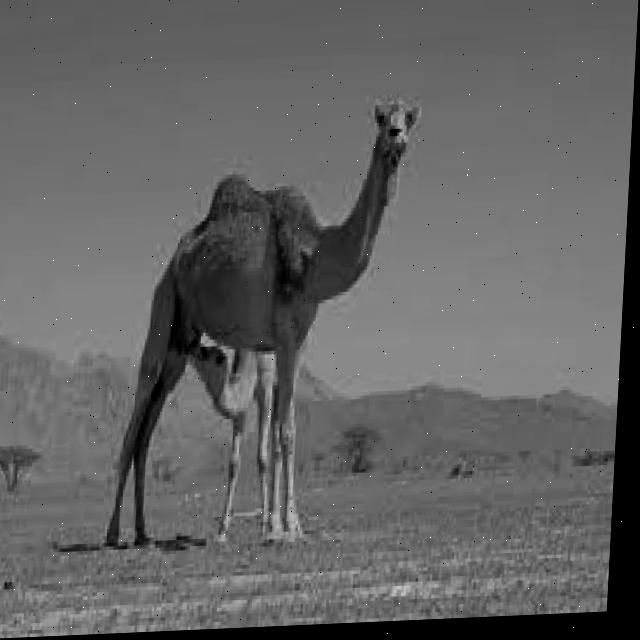Camel: (102, 93, 423, 550), (171, 324, 324, 544)
